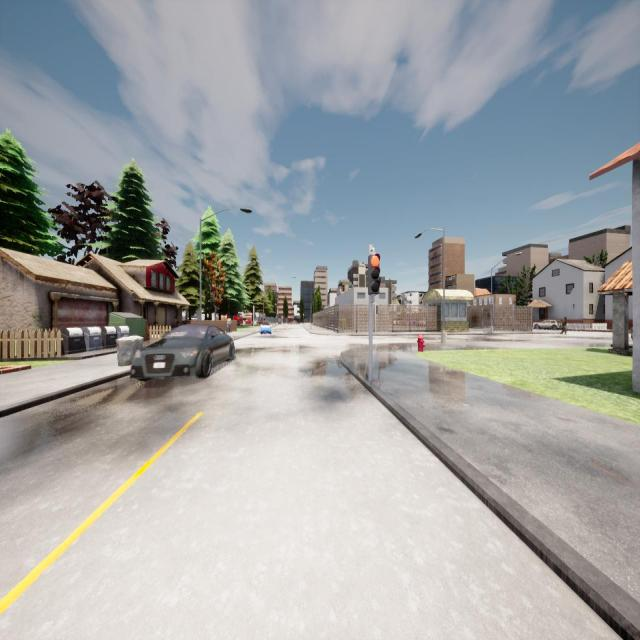Pedestrian: (562, 317, 567, 335), (227, 314, 231, 332)
Vehicle: (130, 324, 234, 378), (532, 320, 562, 330), (260, 322, 271, 334)
traffic_light: (368, 256, 379, 294), (376, 305, 379, 314), (303, 313, 304, 317)
